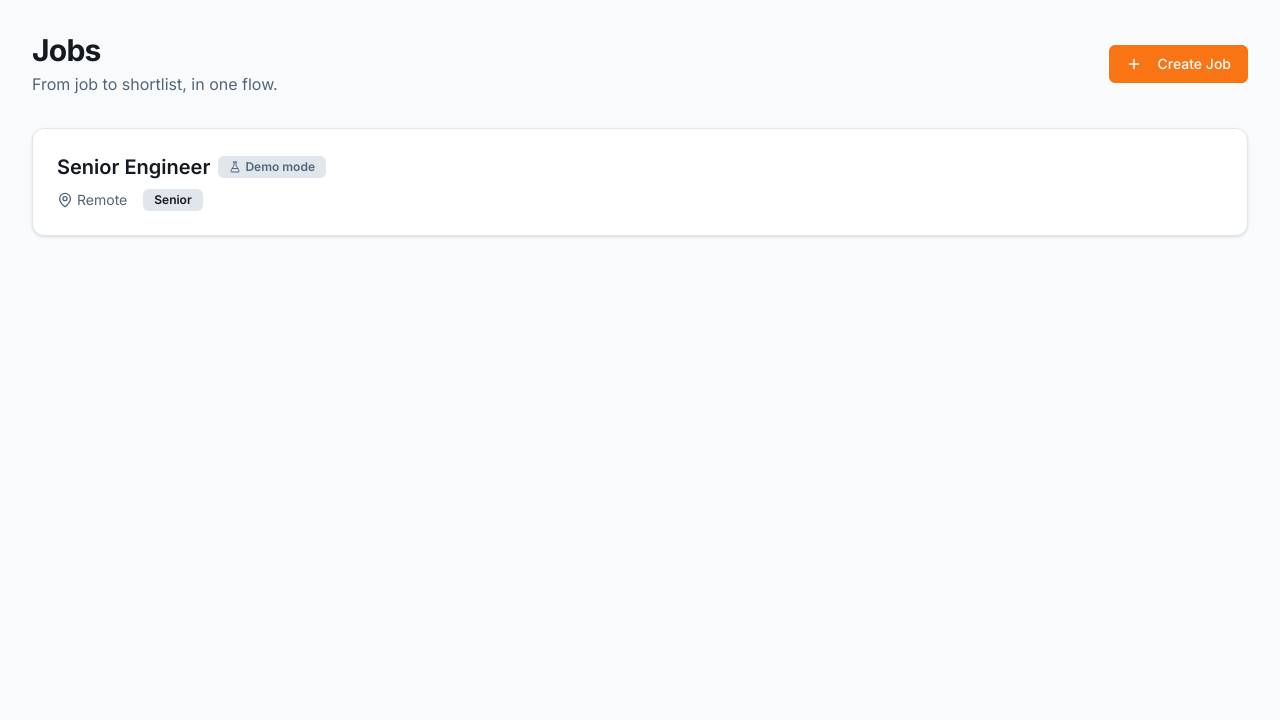
Test case: JobsPage — Real sourcing ready / Demo mode pill › opens an explanatory popover with a Marketplace CTA when the Demo mode pill is clicked, without navigating to the job
Click the button with test id "real-sourcing-pill-demo" at point(272, 167), box [218,156,326,178]
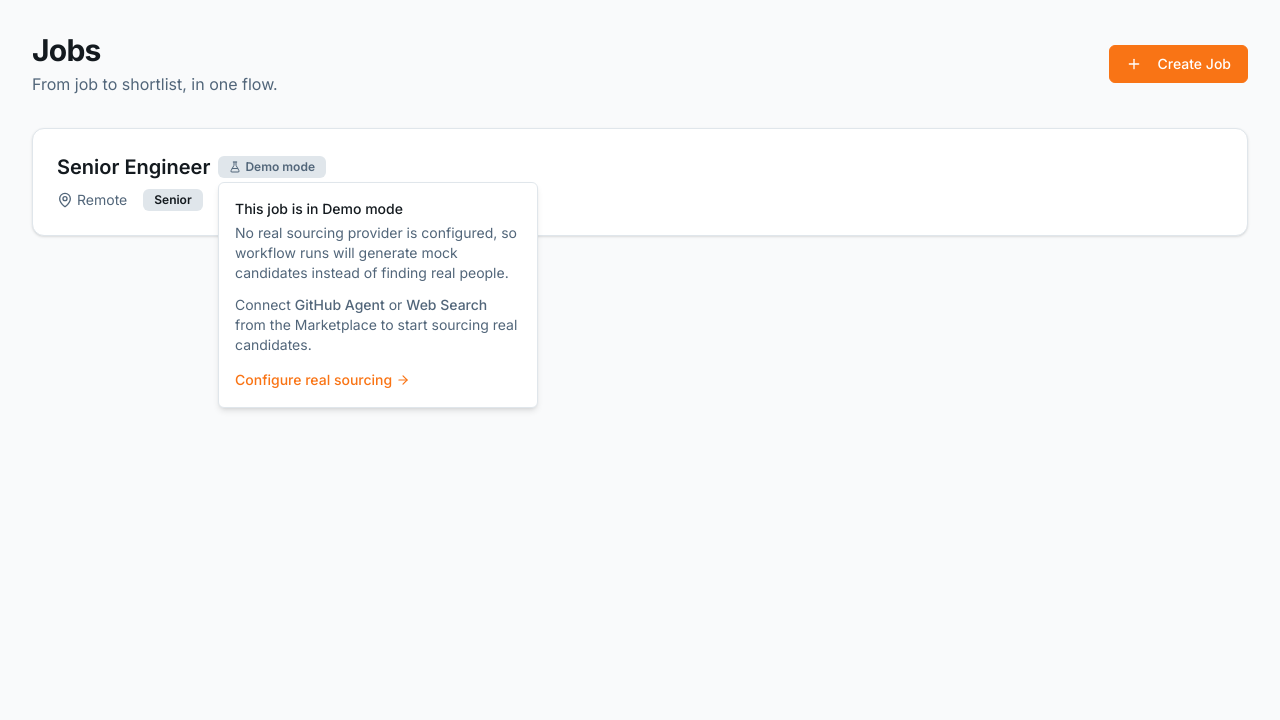
Now the link with test id "real-sourcing-pill-demo-cta" reads "Configure real sourcing", box [235,370,410,390]
